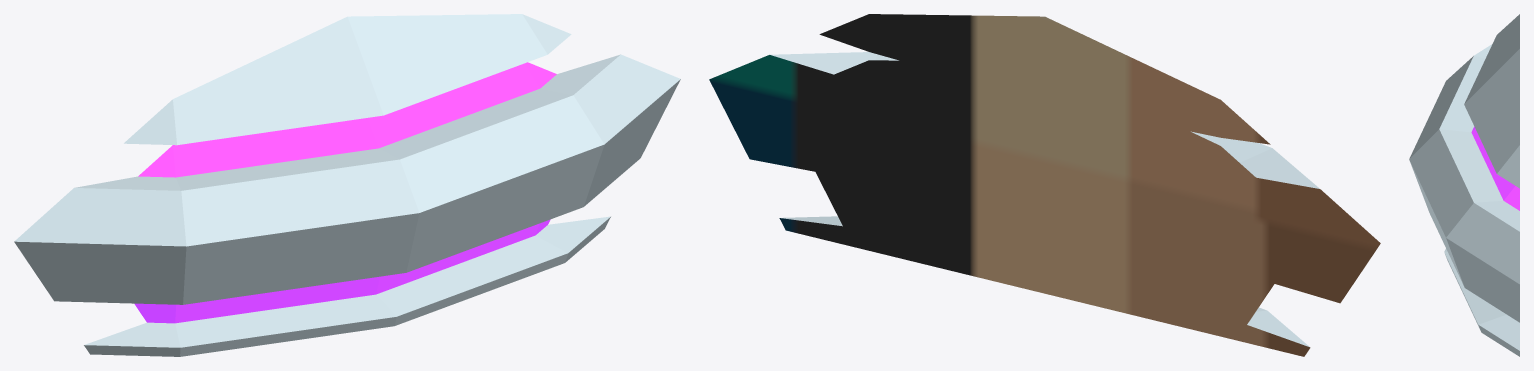
The model's file is tile_3_1_2.gltf.
3 renders of one model, left to right at view 1: azimuth 30°, elevation 25°; view 2: azimuth 150°, elevation 25°; view 3: azimuth 270°, elevation 25°, orthographic. The views are drawn at different scales.
Visible parts, largest first — view 1: Cylinder.008; view 2: Cylinder.008; view 3: Cylinder.008.
Part boxes in pixels (x1=…): Cylinder.008: x1=14, y1=14, x2=680, y2=356; Cylinder.008: x1=709, y1=14, x2=1380, y2=356; Cylinder.008: x1=1409, y1=14, x2=1519, y2=356.
Size of the model in its own units: 9.8 by 3.86 by 1.83.
Materials: 2 (1 with a texture image).
